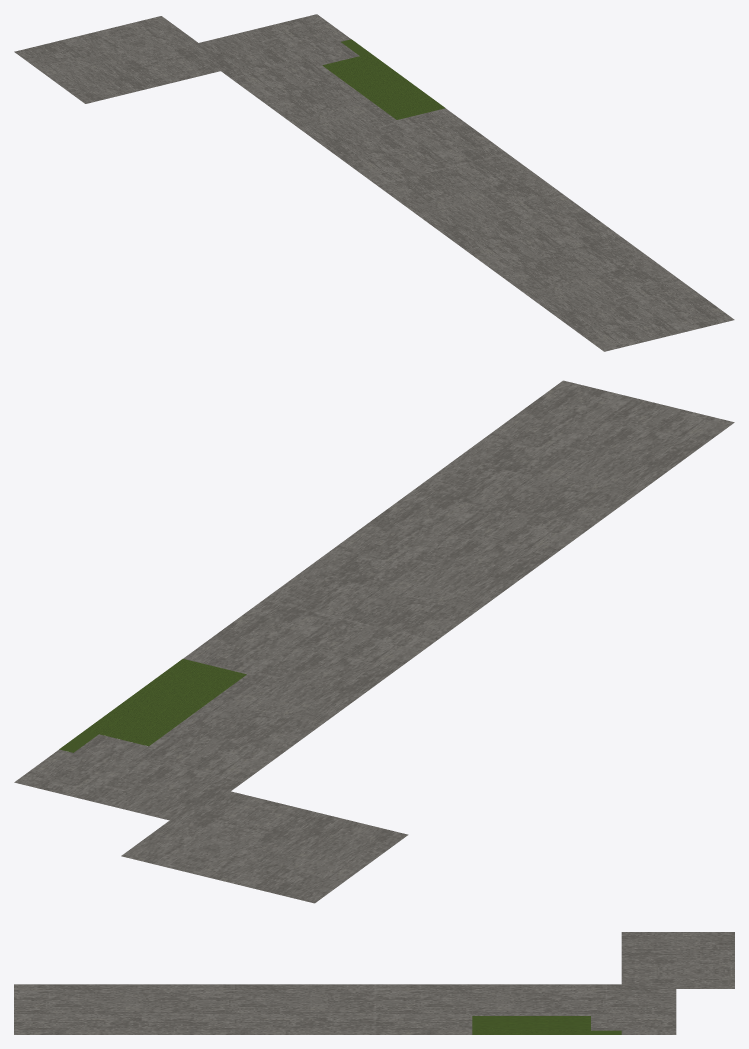
Rendered from floor_gmatte.fbx.
3 views of the same model, one above another, from view 1: azimuth 30°, elevation 25°; view 2: azimuth 150°, elevation 25°; view 3: azimuth 270°, elevation 25° (orthographic). The views are drawn at different scales.
Visible parts, largest first — view 1: floor1, green_matte; view 2: floor1, green_matte; view 3: floor1, green_matte.
Boxes of the visible parts, left/top/right/bottom form: floor1: left=14, top=14, right=734, bottom=351; green_matte: left=322, top=39, right=445, bottom=119; floor1: left=14, top=380, right=734, bottom=903; green_matte: left=59, top=659, right=246, bottom=752; floor1: left=14, top=932, right=734, bottom=1034; green_matte: left=472, top=1016, right=621, bottom=1034.
Bounding box in the file's own units: 1932 × 0.1 × 5722.
Materials: 2 (2 with a texture image).
